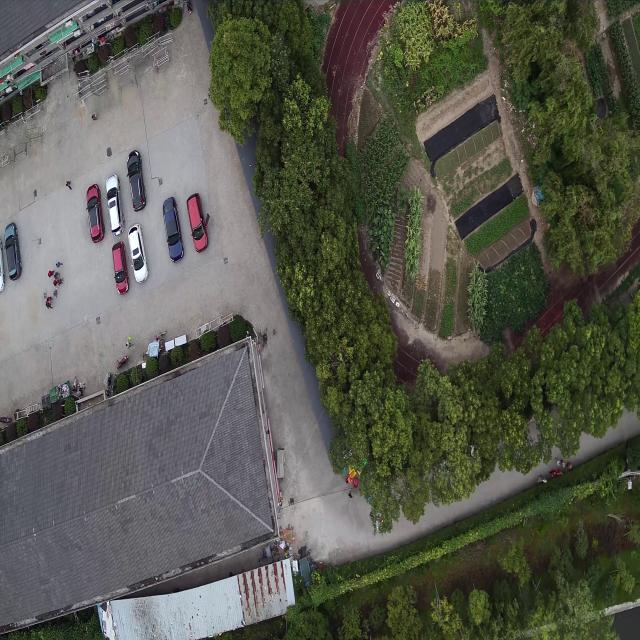UAV: (370, 517, 384, 536)
